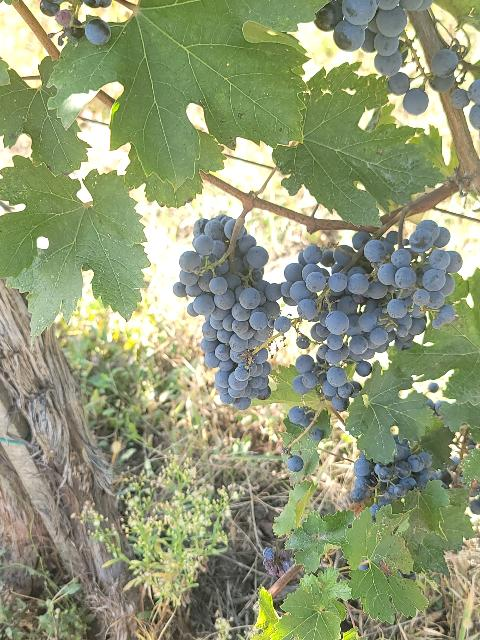grapes: (172, 215, 282, 409), (280, 245, 390, 411), (362, 220, 462, 335)
